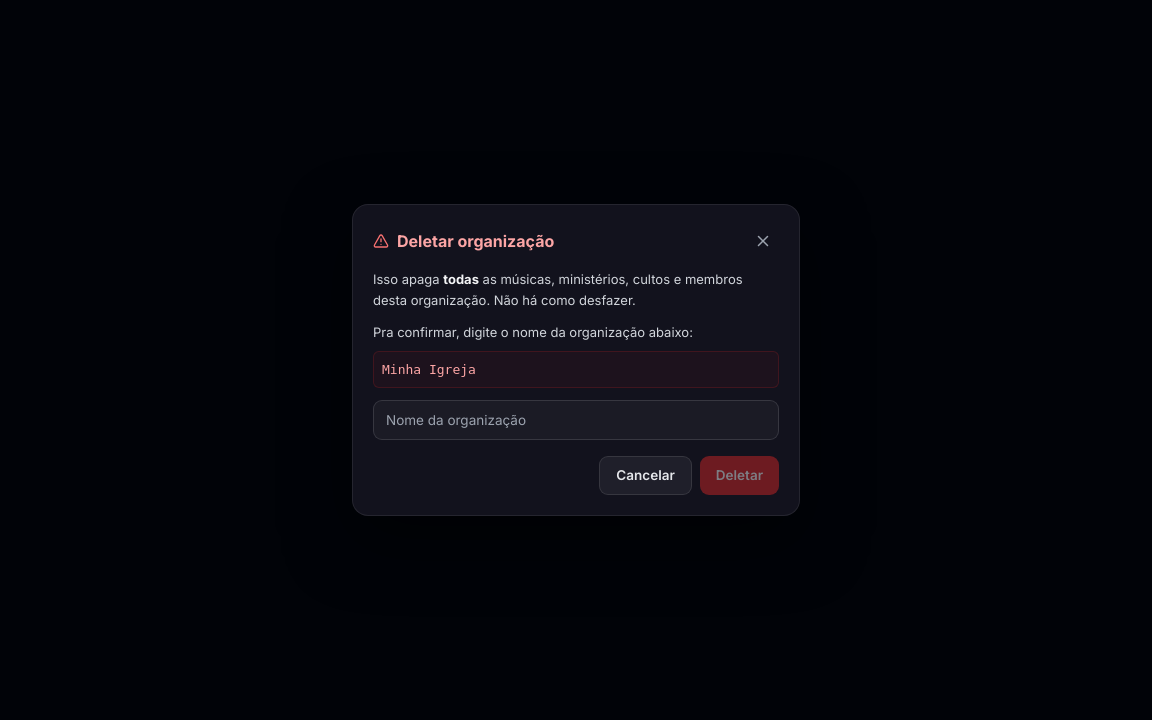
Scenario: DeleteOrgModal › erro do supabase (data.ok=false) mostra mensagem inline + toastError, NÃO fecha o modal, NÃO remove do localStorage
The width and height of the screenshot is (1152, 720).
Type "Minha Igreja" into the field with placeholder "Nome da organização" at (576, 420), box [373, 400, 779, 440]
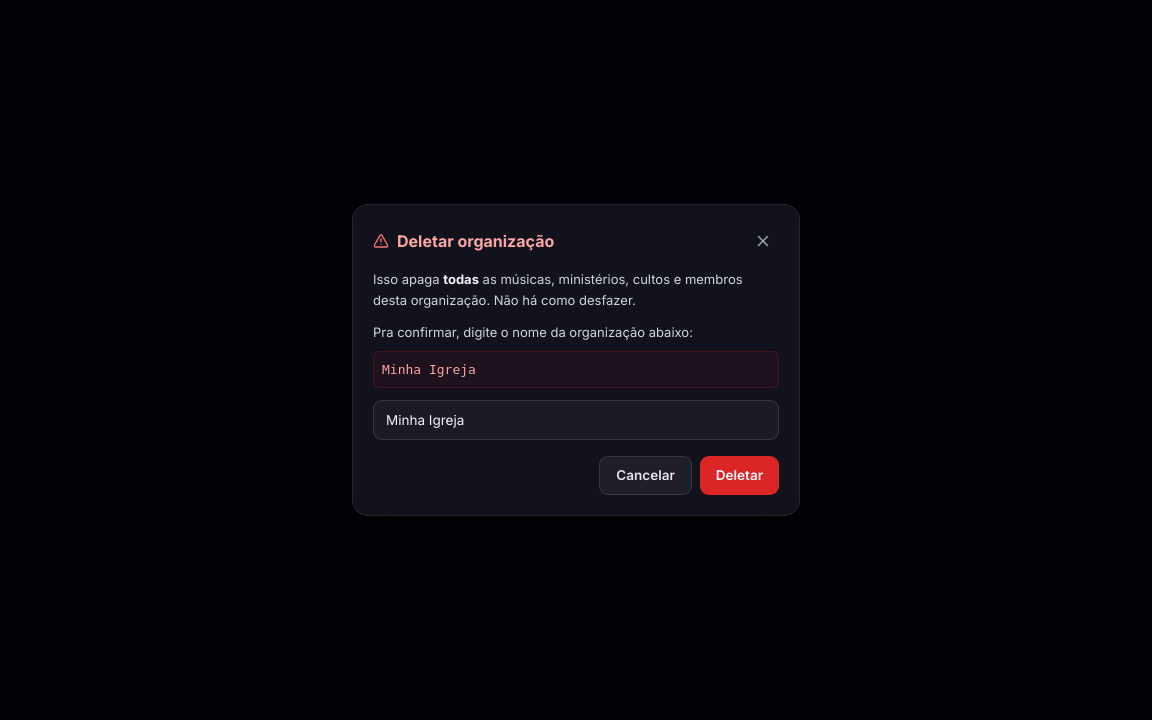
Click the button "Deletar" at (739, 475), box [700, 456, 779, 495]
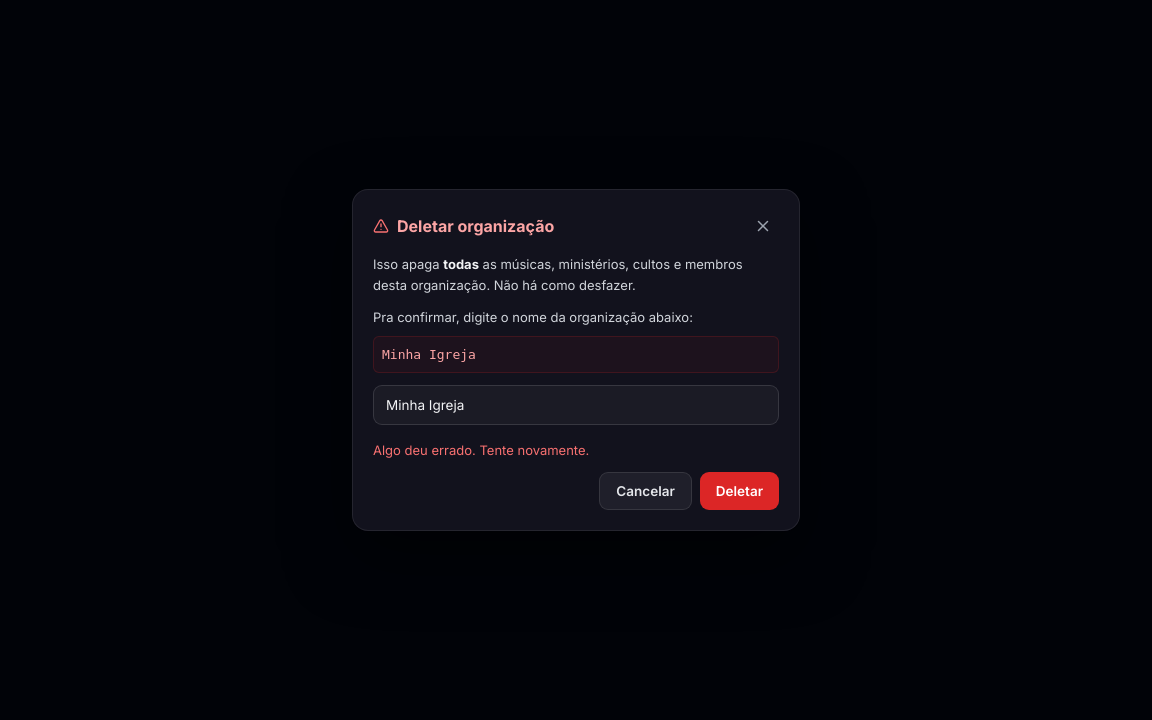
Expected: the text "Algo deu errado. Tente novamente." is shown, [373, 442, 589, 458]
